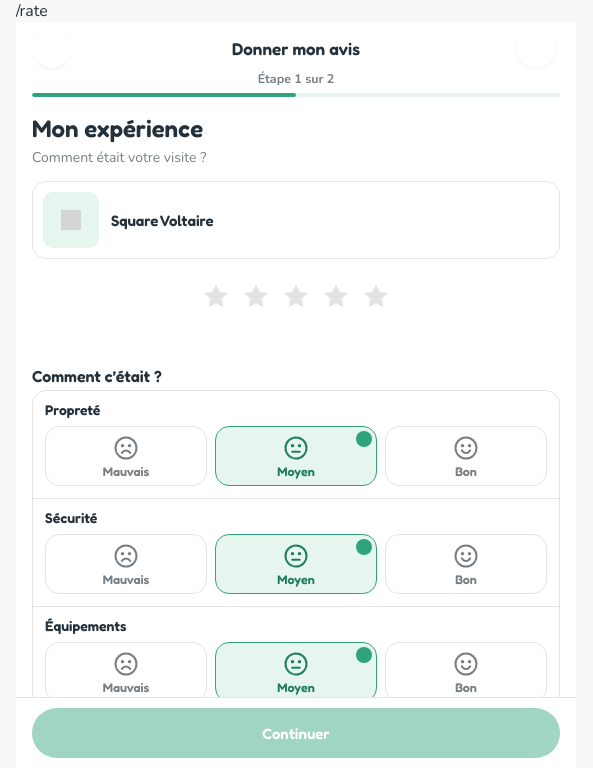
Test case: RatePark — persistent draft (LOT 3D.E) › createReview failure → stays on the form, draft conserved
Click the button named "4 étoiles". click: x=336, y=299
box: [319,279,353,318]
(page scrolled)
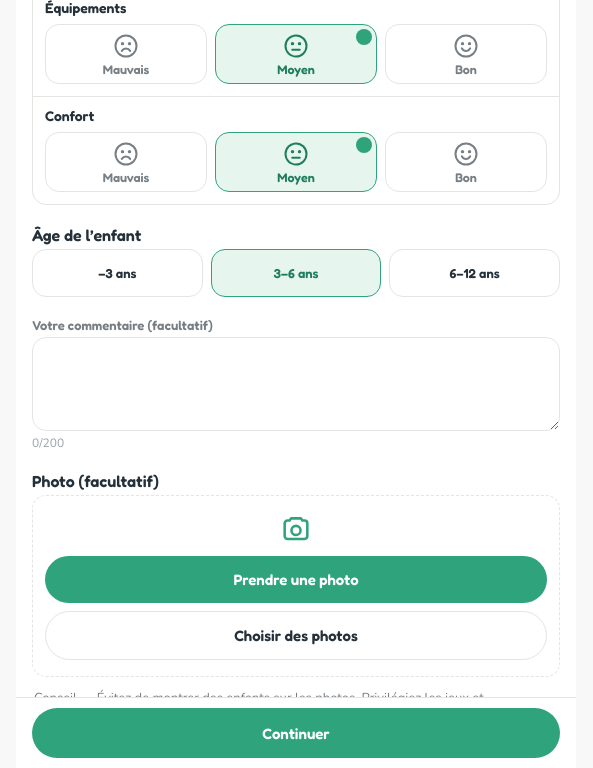
Type "Ne part pas" into the text box labelled "Votre commentaire (facultatif) 0/200". click: x=296, y=384
box: [32,337,560,431]
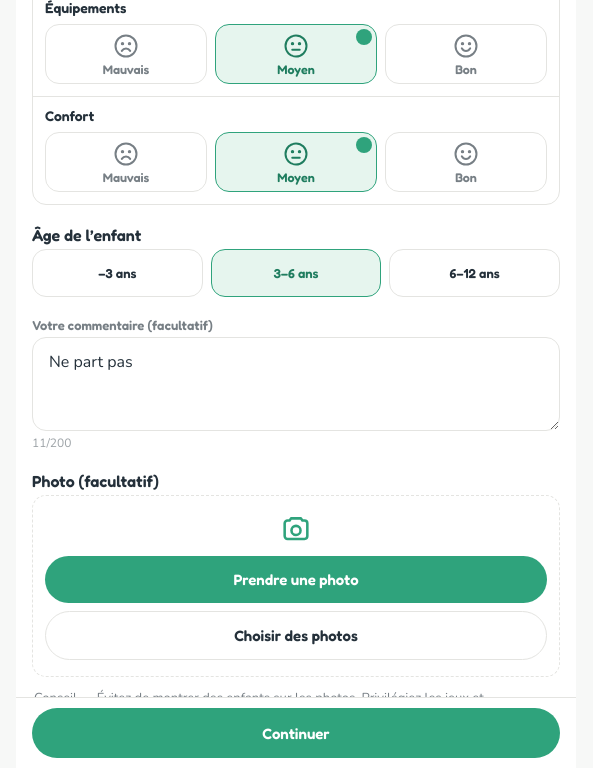
Click the button "Continuer". click: x=296, y=733
box: [32,708,560,758]
(page scrolled)
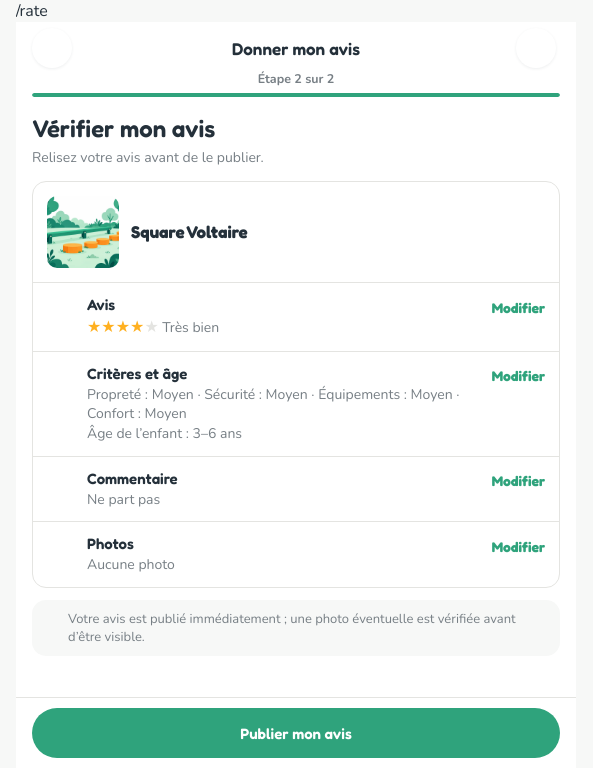
Result: the heading "Vérifier mon avis" is shown at [32,114,215,143]
Click the button "Publier mon avis". click: x=296, y=733
box: [32,708,560,758]
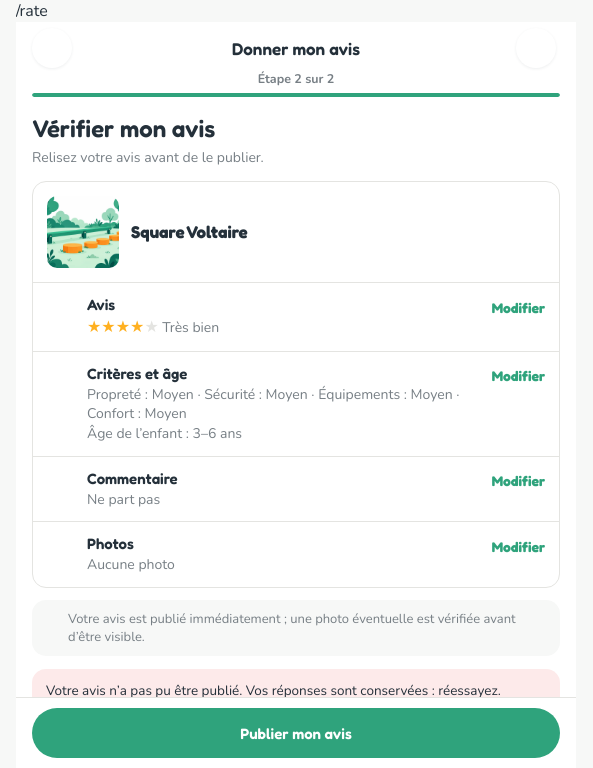
Result: the button "Publier mon avis" is enabled at [32,708,560,758]
Result: the text "Ne part pas" is shown at [87,490,160,509]
Result: the message shows "Vos réponses sont conservées" at [46,681,501,700]
